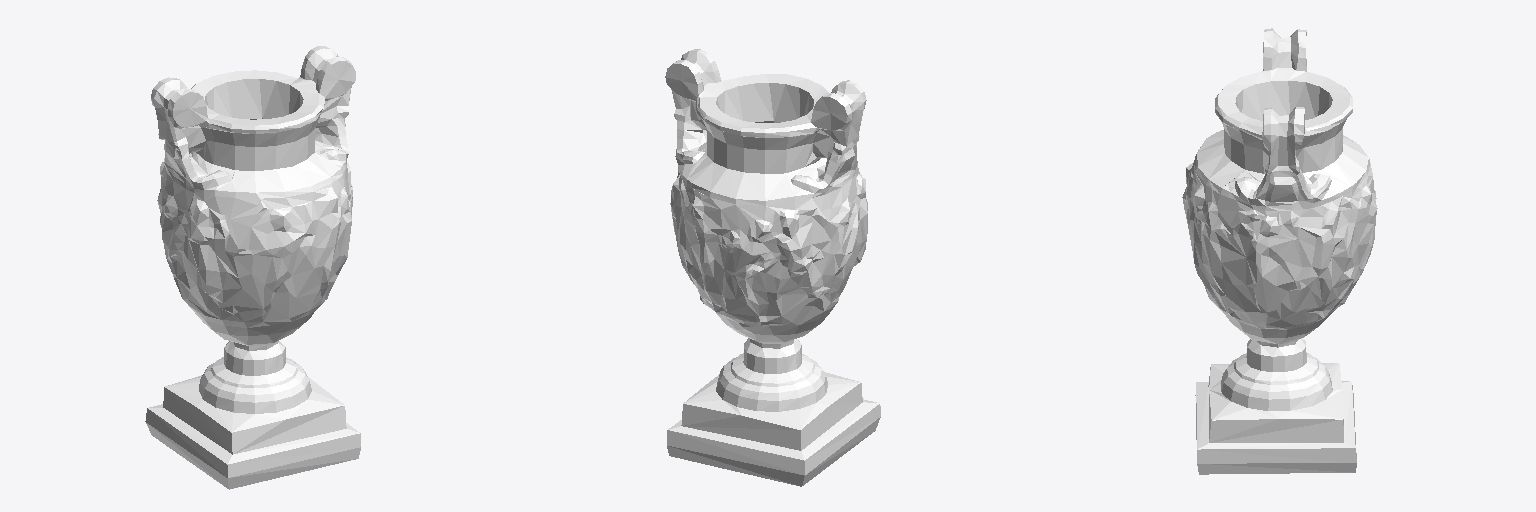
File: vase_lod1.obj
The picture shows the model from 3 angles: view 1: azimuth 30°, elevation 25°; view 2: azimuth 150°, elevation 25°; view 3: azimuth 270°, elevation 25°; orthographic projection.
Visible parts, largest first — view 1: Vase_Lod1; view 2: Vase_Lod1; view 3: Vase_Lod1.
Part boxes in pixels (x1,y1,x2,y2): Vase_Lod1: (145, 46, 360, 489); Vase_Lod1: (665, 49, 880, 486); Vase_Lod1: (1182, 28, 1377, 474).
Size of the model in its own units: 4.26 by 8.23 by 3.87.